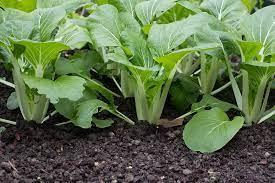Healthy-Pechay: (2, 1, 275, 107), (177, 95, 253, 154)
